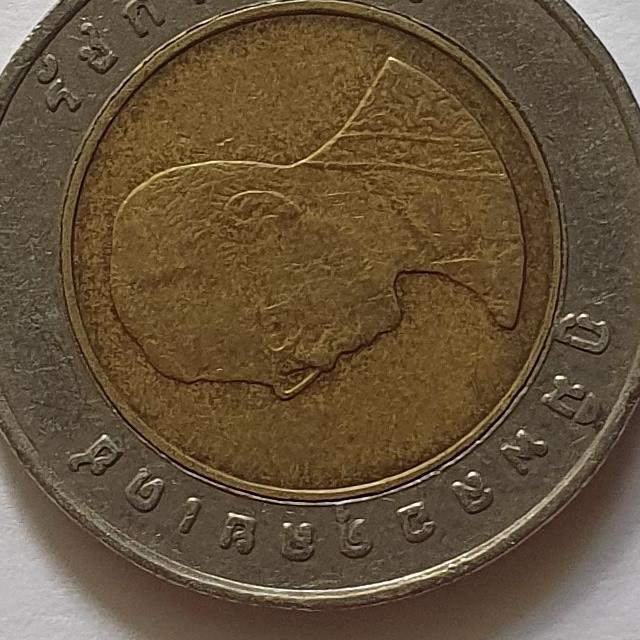10 Bath: (1, 1, 640, 623)
